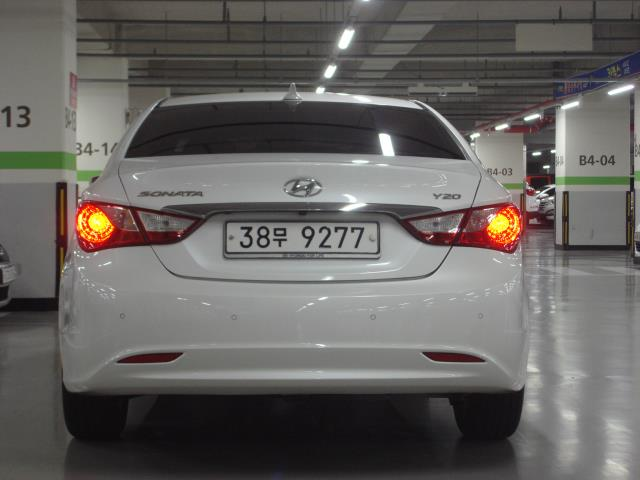plate: (227, 223, 378, 252)
